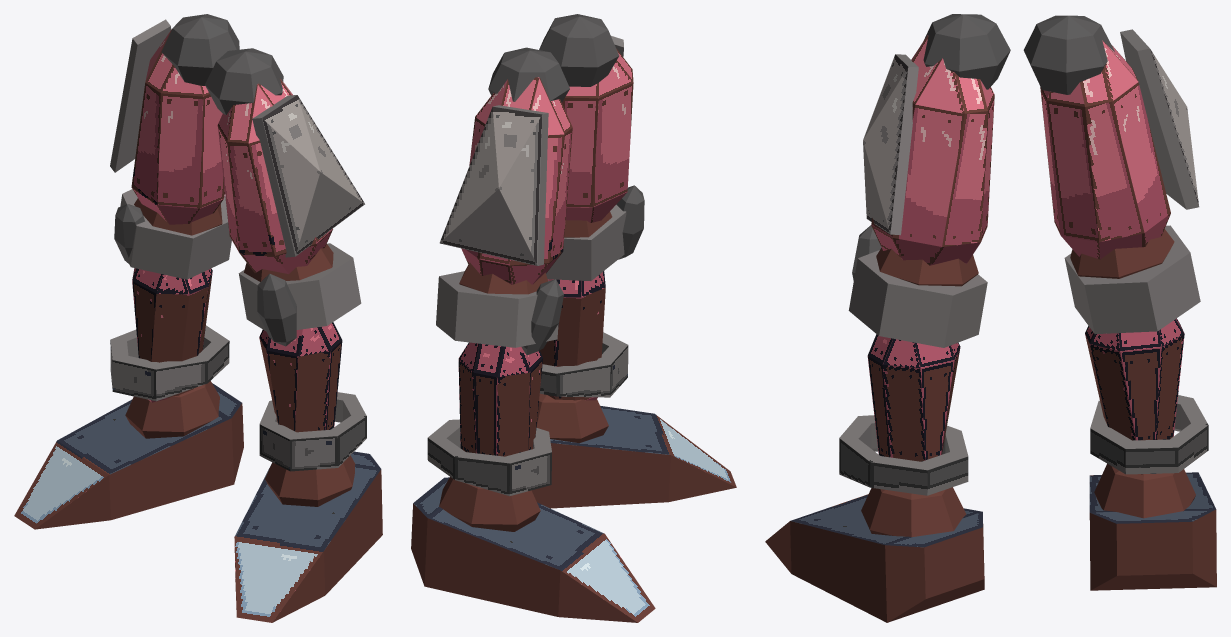
File: LightLegs.gltf
3 views of the same model, side by side, from view 1: azimuth 30°, elevation 25°; view 2: azimuth 150°, elevation 25°; view 3: azimuth 270°, elevation 25° (orthographic). The views are drawn at different scales.
Visible parts, largest first — view 1: cuboid (×2), UpperLegGuard (×2), pyramid (×2), HeavyLowerLegGuard (×2), tube (×2), Brace (×2), HipJoint (×2), Ankle (×2), sphere (×2), KneeJoint (×2); view 2: cuboid (×2), UpperLegGuard (×2), HeavyLowerLegGuard (×2), pyramid, tube (×2), Brace (×2), HipJoint (×2), Ankle (×2), sphere (×2), KneeJoint (×2); view 3: UpperLegGuard (×2), cuboid (×2), HeavyLowerLegGuard (×2), Brace (×2), pyramid (×2), tube (×2), HipJoint (×2), Ankle (×2), KneeJoint (×2).
Part boxes in pixels (<box>): cuboid (×2): <box>14,383,382,622</box>; UpperLegGuard (×2): <box>131,29,332,273</box>; pyramid (×2): <box>110,19,364,257</box>; HeavyLowerLegGuard (×2): <box>132,268,342,432</box>; tube (×2): <box>110,325,366,471</box>; Brace (×2): <box>120,189,361,331</box>; HipJoint (×2): <box>161,14,283,114</box>; Ankle (×2): <box>125,381,355,506</box>; sphere (×2): <box>114,204,296,346</box>; KneeJoint (×2): <box>134,198,333,281</box>; cuboid (×2): <box>411,405,736,622</box>; UpperLegGuard (×2): <box>461,48,633,284</box>; HeavyLowerLegGuard (×2): <box>458,271,605,456</box>; pyramid: <box>439,105,548,265</box>; tube (×2): <box>427,332,628,496</box>; Brace (×2): <box>436,204,626,347</box>; HipJoint (×2): <box>488,14,619,102</box>; Ankle (×2): <box>439,393,608,531</box>; sphere (×2): <box>521,185,644,355</box>; KneeJoint (×2): <box>459,211,612,294</box>; UpperLegGuard (×2): <box>871,35,1170,265</box>; cuboid (×2): <box>765,472,1216,622</box>; HeavyLowerLegGuard (×2): <box>867,318,1184,474</box>; Brace (×2): <box>848,225,1200,347</box>; pyramid (×2): <box>863,29,1199,235</box>; tube (×2): <box>839,395,1208,495</box>; HipJoint (×2): <box>923,14,1114,94</box>; Ankle (×2): <box>861,463,1195,537</box>; KneeJoint (×2): <box>876,229,1174,286</box>.
Size of the model in its own units: 0.7384 by 1.37 by 1.
Materials: 1 (1 with a texture image).
